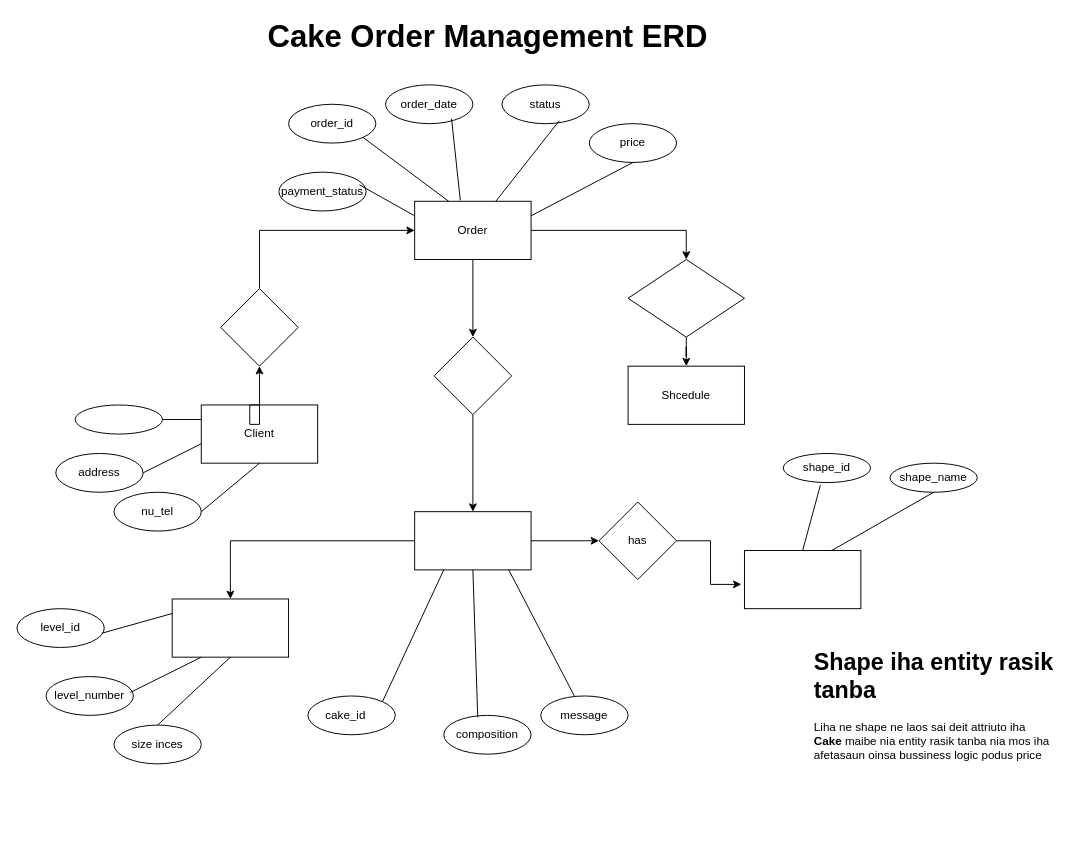
Some shapes in this 1072 by 865 pixel diagram are drawn without their labels. The shapes that lost their labels are listed below. From the top down, each one's centre as x and y in pixels, then its label:
point (685, 298): scheduled_at
point (259, 327): places
point (472, 375): includes
point (118, 419): name
point (472, 540): Cake
point (802, 579): Shape
point (230, 627): CakeLevel
